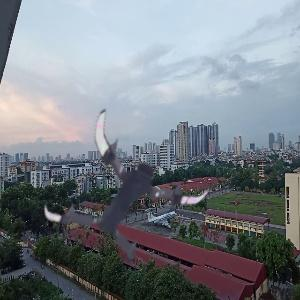drone: (56, 110, 211, 265)
